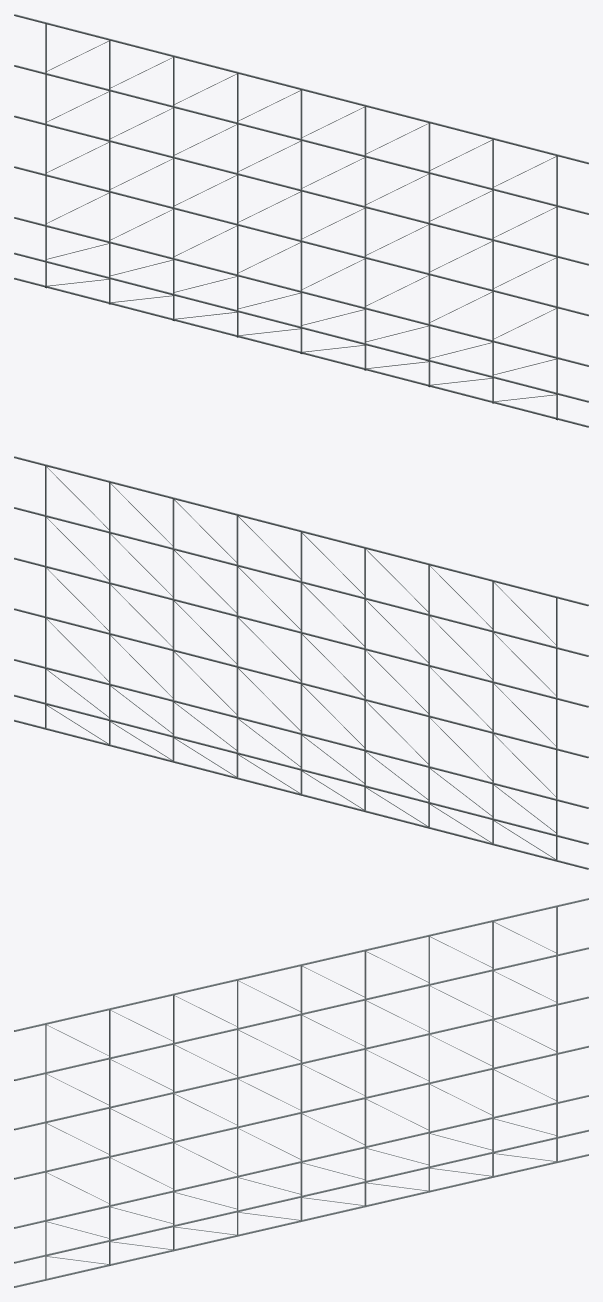
The model's file is G7_Completion_Prior_G7_MiddleExterior_E05_r001.glb.
The picture shows the model from 3 angles, top to bottom: view 1: azimuth 30°, elevation 25°; view 2: azimuth 210°, elevation 25°; view 3: azimuth 270°, elevation 25°; orthographic projection. The views are drawn at different scales.
Visible parts, largest first — view 1: G7_MiddleExterior_E05_frame; view 2: G7_MiddleExterior_E05_frame; view 3: G7_MiddleExterior_E05_frame.
Boxes of the visible parts, left/top/right/bottom form: G7_MiddleExterior_E05_frame: left=14, top=14, right=588, bottom=427; G7_MiddleExterior_E05_frame: left=14, top=456, right=588, bottom=869; G7_MiddleExterior_E05_frame: left=14, top=898, right=588, bottom=1287.
Size of the model in its own units: 49.13 by 44.5 by 89.99.
Materials: 2 (2 with a texture image).
